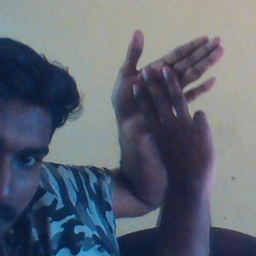M: (108, 29, 227, 166)
